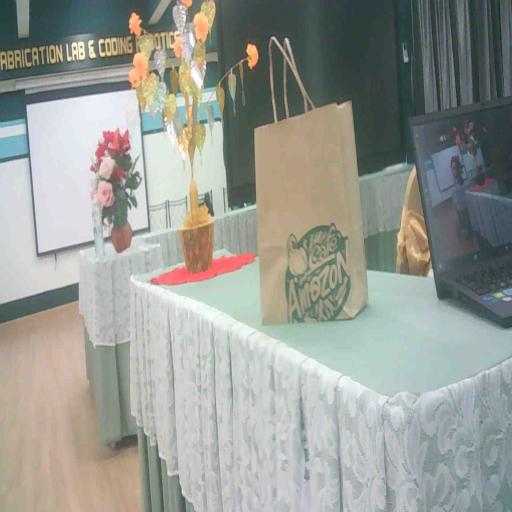bag: (246, 88, 375, 336)
